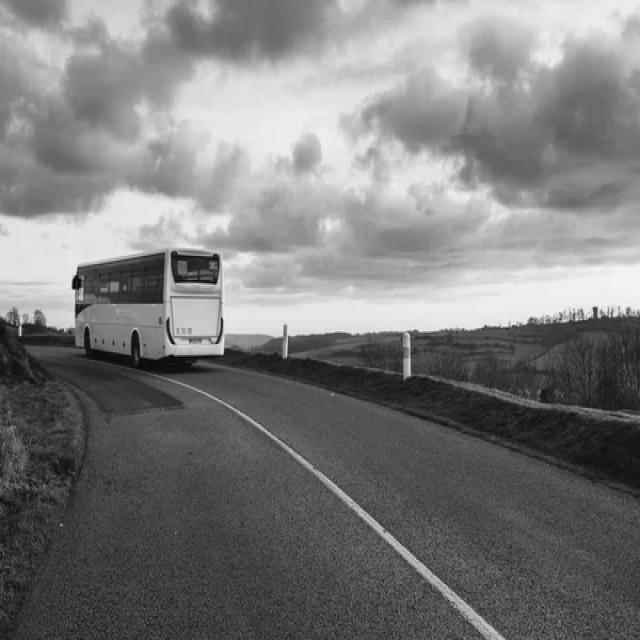Bus: (72, 248, 225, 367)
